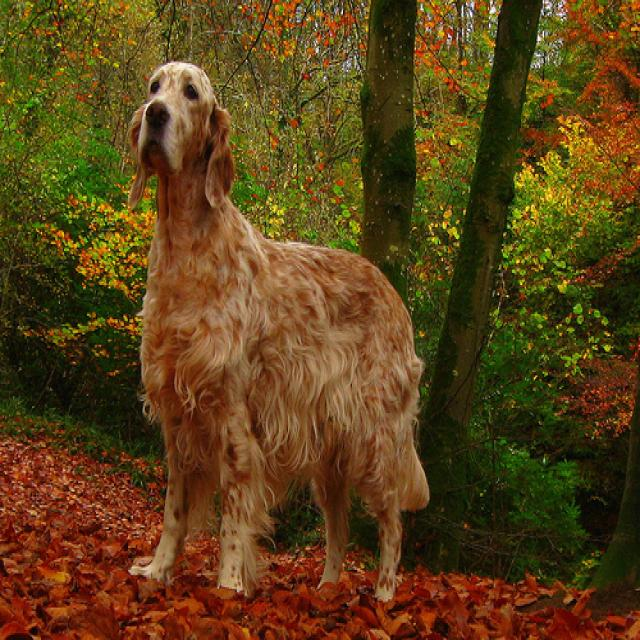dog-english_setter: (119, 51, 435, 614)
